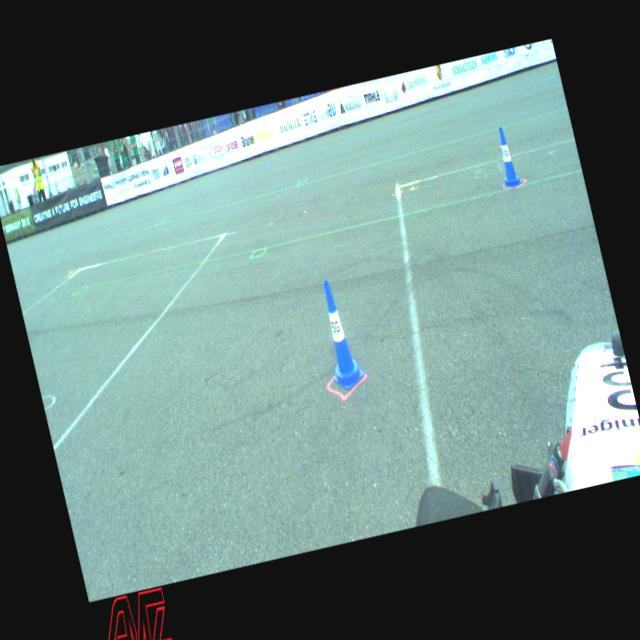blue_cone: (311, 276, 367, 392), (490, 124, 522, 190)
